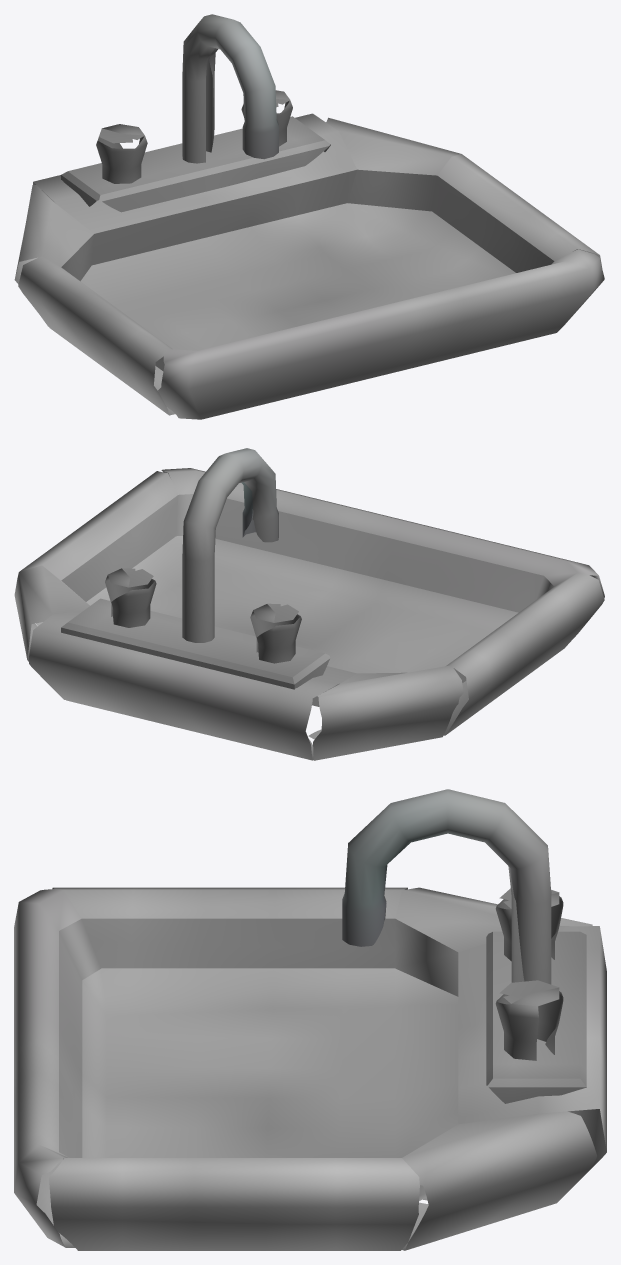
Rendered from wall-basin.gltf.
3 views of the same model, one above another, from view 1: azimuth 30°, elevation 25°; view 2: azimuth 150°, elevation 25°; view 3: azimuth 270°, elevation 25° (orthographic). The views are drawn at different scales.
Visible parts, largest first — view 1: Sink; view 2: Sink; view 3: Sink.
Part boxes in pixels (<box>): Sink: <box>14,14,604,419</box>; Sink: <box>14,448,604,760</box>; Sink: <box>14,789,606,1250</box>.
Bounding box in the file's own units: 0.5397 × 0.3231 × 0.4589.
1 material, 1 textured.
